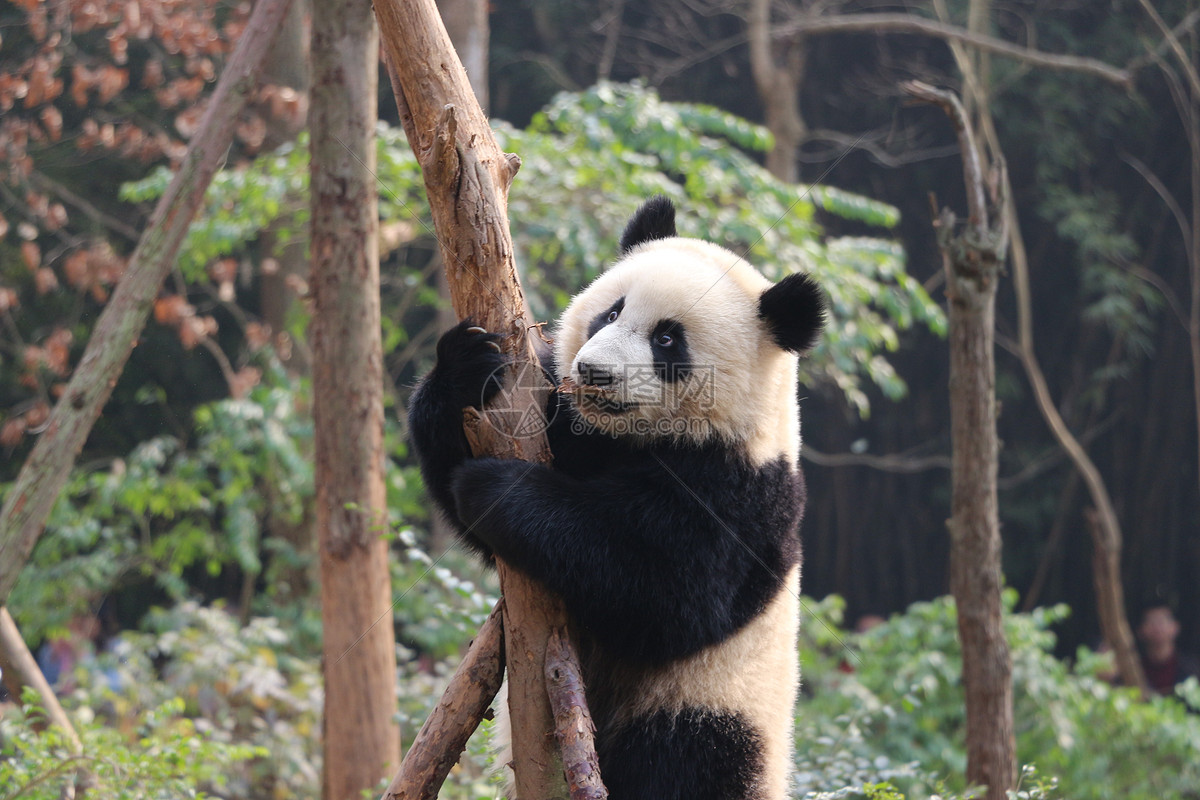panda: (409, 154, 859, 779)
